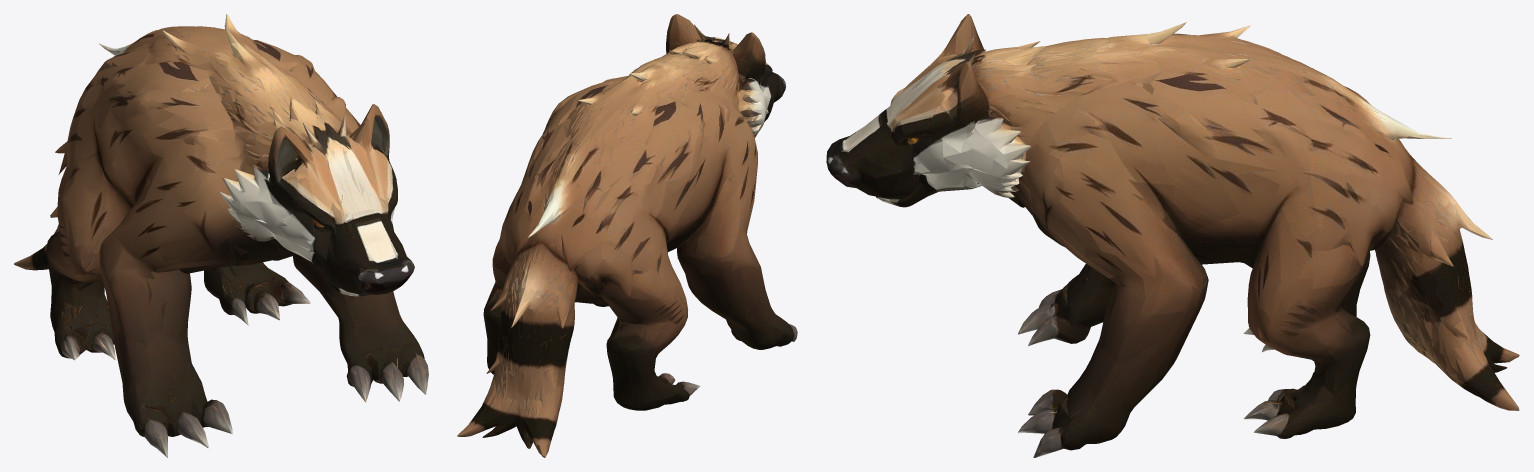
Rendered from xuehuan.glb.
3 renders of one model, left to right at view 1: azimuth 30°, elevation 25°; view 2: azimuth 150°, elevation 25°; view 3: azimuth 270°, elevation 25°, orthographic. The views are drawn at different scales.
Size of the model in its own units: 0.9584 by 1.12 by 1.9.
1 material, 1 textured.
